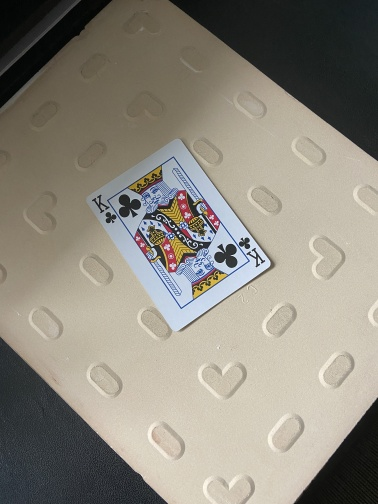king: (85, 136, 274, 333)
